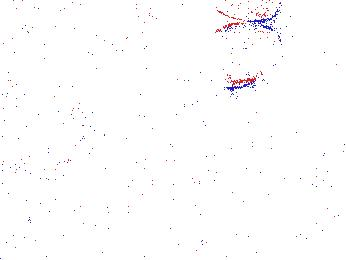moon jellyfish: (163, 8, 220, 112), (4, 9, 116, 61), (204, 21, 278, 88), (14, 105, 108, 156)
